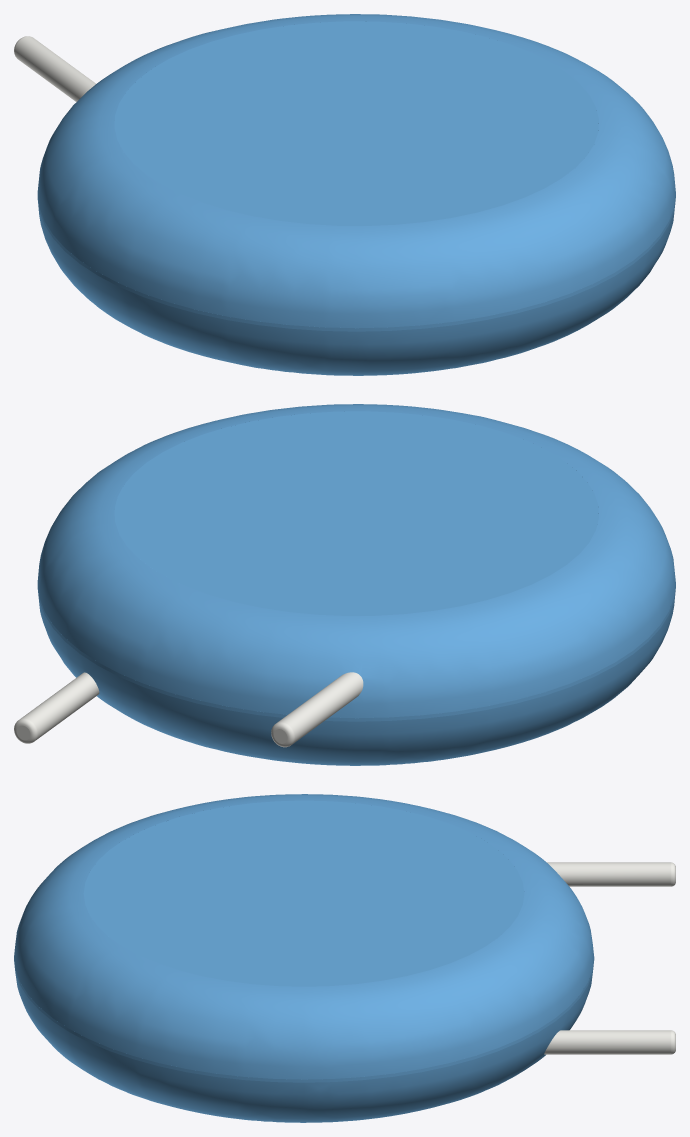
File: RV_Disc_D21.5mm_W5.3mm_P10mm.glb
3 renders of one model, top to bottom at view 1: azimuth 30°, elevation 25°; view 2: azimuth 150°, elevation 25°; view 3: azimuth 270°, elevation 25°, orthographic. The views are drawn at different scales.
Parts seen in each view (by area): view 1: Shape_IndexedFaceSet.001, Shape_IndexedFaceSet.003, Shape_IndexedFaceSet.002, Shape_IndexedFaceSet, Shape_IndexedFaceSet.004; view 2: Shape_IndexedFaceSet.001, Shape_IndexedFaceSet.003, Shape_IndexedFaceSet.002, Shape_IndexedFaceSet, Shape_IndexedFaceSet.004, Shape_IndexedFaceSet.006; view 3: Shape_IndexedFaceSet.001, Shape_IndexedFaceSet.003, Shape_IndexedFaceSet.002, Shape_IndexedFaceSet.006, Shape_IndexedFaceSet.004, Shape_IndexedFaceSet.
Part boxes in pixels (box(x1,y1,x2,y2)): Shape_IndexedFaceSet.001: box(37, 14, 675, 328); Shape_IndexedFaceSet.003: box(114, 21, 598, 225); Shape_IndexedFaceSet.002: box(37, 123, 675, 375); Shape_IndexedFaceSet: box(37, 195, 675, 331); Shape_IndexedFaceSet.004: box(14, 36, 95, 101); Shape_IndexedFaceSet.001: box(37, 404, 675, 718); Shape_IndexedFaceSet.003: box(114, 411, 598, 615); Shape_IndexedFaceSet.002: box(38, 509, 675, 765); Shape_IndexedFaceSet: box(37, 585, 675, 721); Shape_IndexedFaceSet.004: box(277, 672, 363, 743); Shape_IndexedFaceSet.006: box(20, 672, 99, 740); Shape_IndexedFaceSet.001: box(14, 794, 594, 1079); Shape_IndexedFaceSet.003: box(83, 800, 524, 986); Shape_IndexedFaceSet.002: box(14, 966, 593, 1122); Shape_IndexedFaceSet.006: box(544, 1030, 670, 1054); Shape_IndexedFaceSet.004: box(547, 862, 670, 886); Shape_IndexedFaceSet: box(14, 957, 594, 1082).
Bounding box in the file's own units: 8.47 × 2.09 × 9.66.
